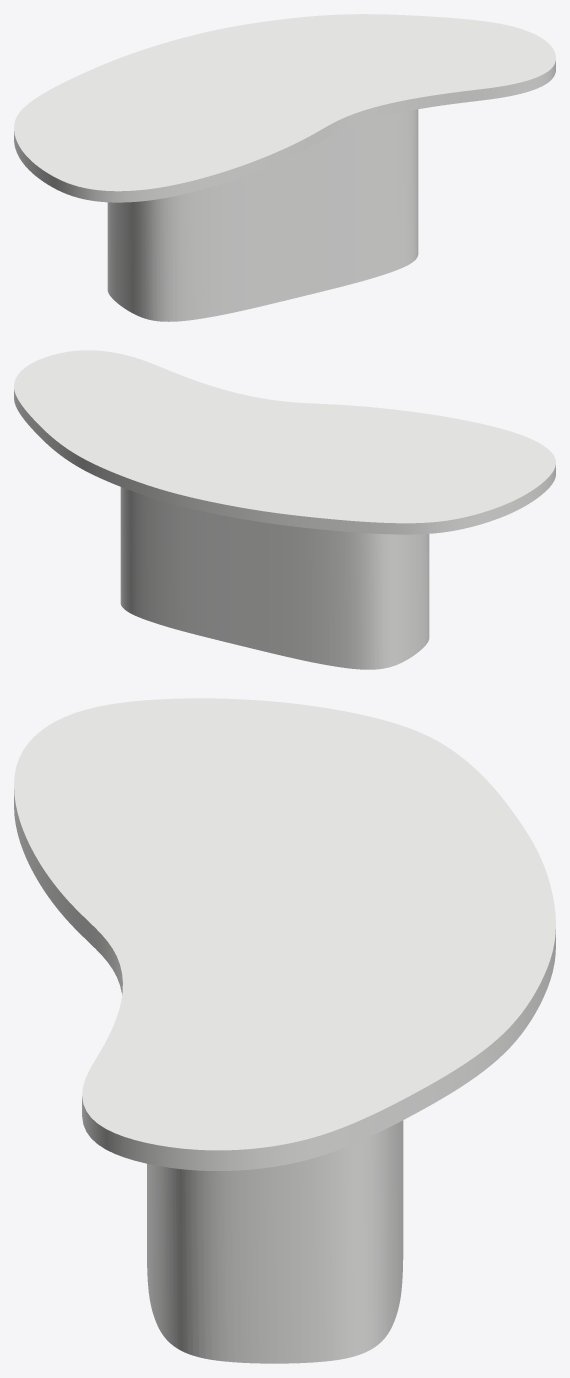
File: purewhite_leaf1_standard_fixed.glb
3 views of the same model, one above another, from view 1: azimuth 30°, elevation 25°; view 2: azimuth 150°, elevation 25°; view 3: azimuth 270°, elevation 25° (orthographic). The views are drawn at different scales.
Visible parts, largest first — view 1: standard_leaf1, fixed; view 2: standard_leaf1, fixed; view 3: standard_leaf1, fixed.
Part boxes in pixels (<box>): standard_leaf1: <box>14,14,555,202</box>; fixed: <box>107,109,418,321</box>; standard_leaf1: <box>14,350,555,534</box>; fixed: <box>120,487,429,669</box>; standard_leaf1: <box>14,698,555,1170</box>; fixed: <box>147,1120,403,1363</box>.
Bounding box in the file's own units: 7.5 × 2.5 × 3.8.
1 material, 1 textured.
